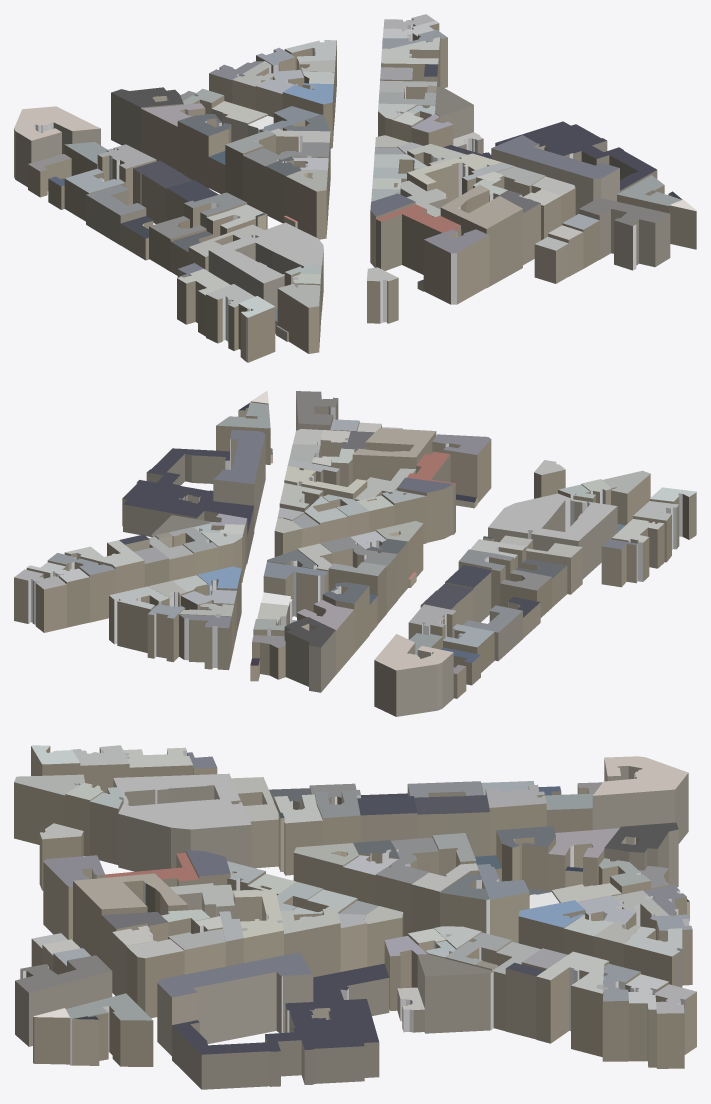
The picture shows the model from 3 angles, top to bottom: view 1: azimuth 30°, elevation 25°; view 2: azimuth 150°, elevation 25°; view 3: azimuth 270°, elevation 25°; orthographic projection. The views are drawn at different scales.
Visible parts, largest first — view 1: tuile; view 2: tuile; view 3: tuile.
Boxes of the visible parts, <box> form: tuile: <box>14,14,696,362</box>; tuile: <box>14,391,696,716</box>; tuile: <box>14,745,696,1089</box>.
Size of the model in its own units: 269 by 33.2 by 269.
